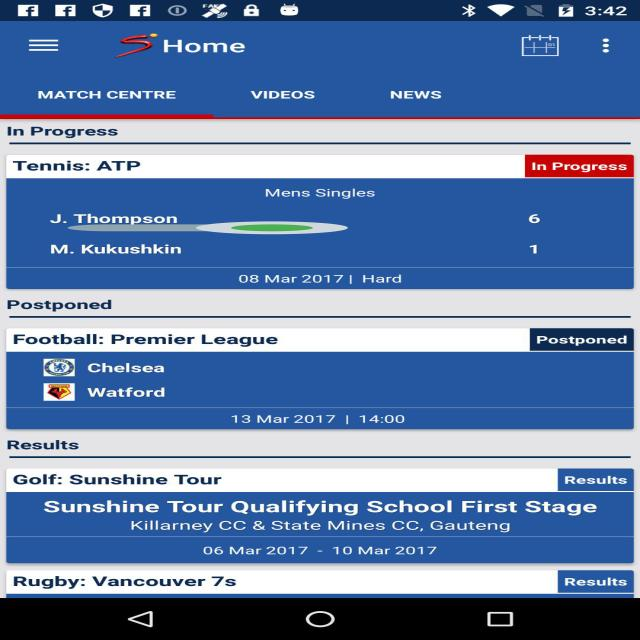social proof: (67, 216, 348, 240)
